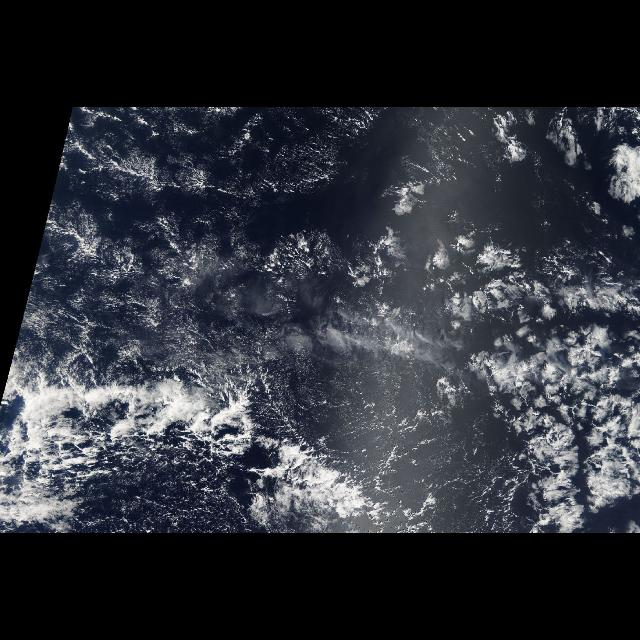Fish: (26, 365, 262, 505), (496, 382, 640, 532)
Gravel: (327, 368, 529, 532), (80, 458, 258, 532)
Sugar: (48, 114, 482, 478)
